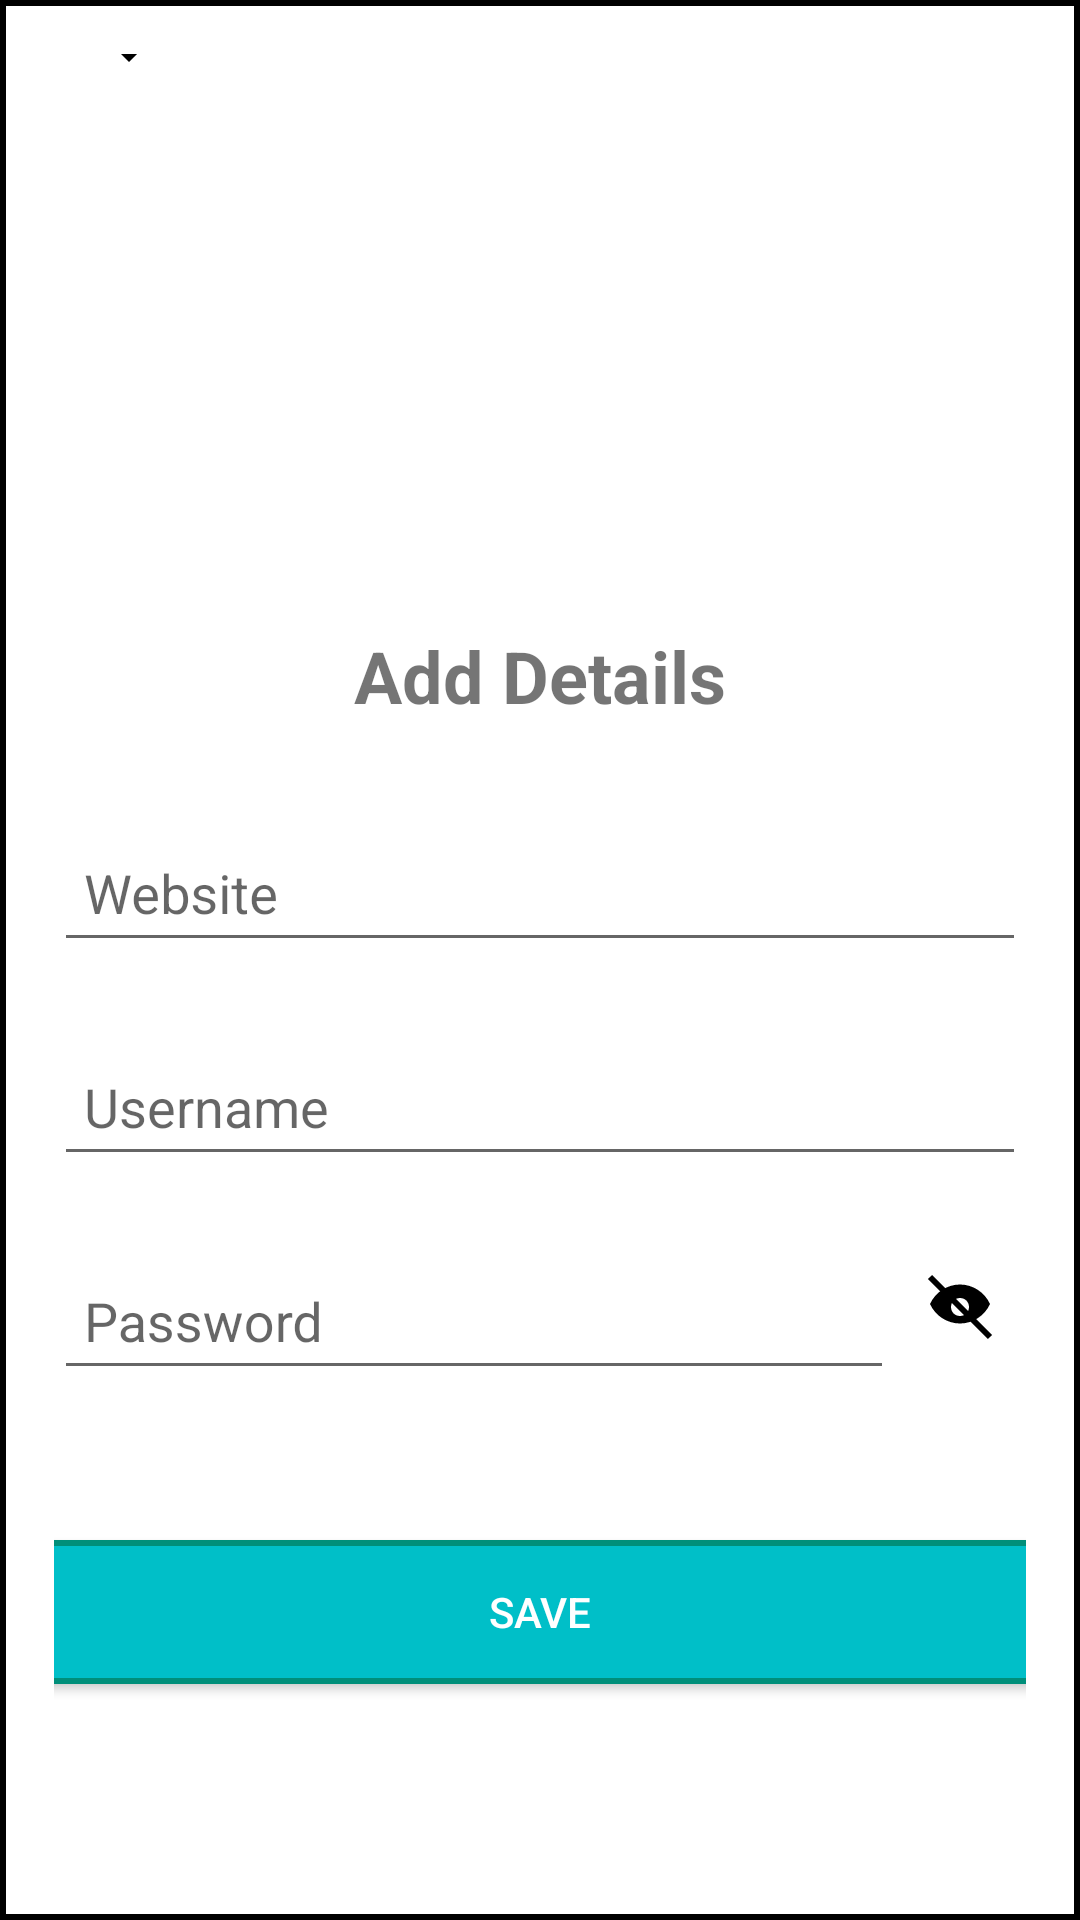

Locate icon controls on the screen. Image size 1080px x 1920px, boxes as (x1, y1, x2, y2).
eye closed: (928, 1275, 992, 1339)
